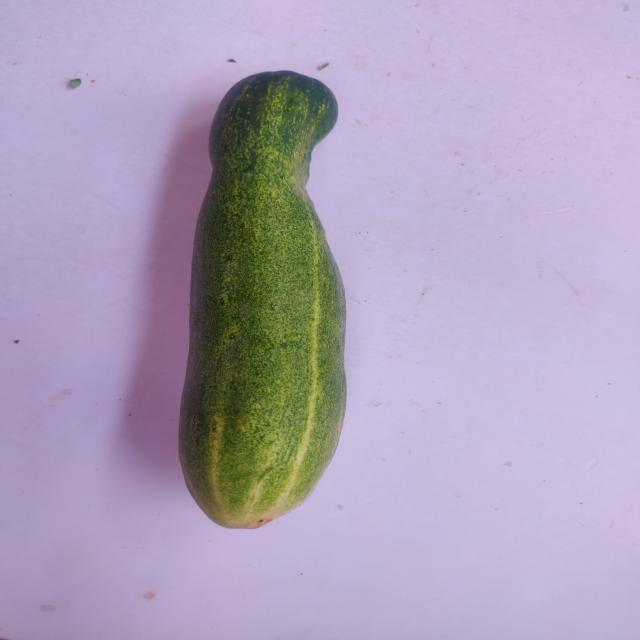Cucumber: (182, 64, 354, 536)
